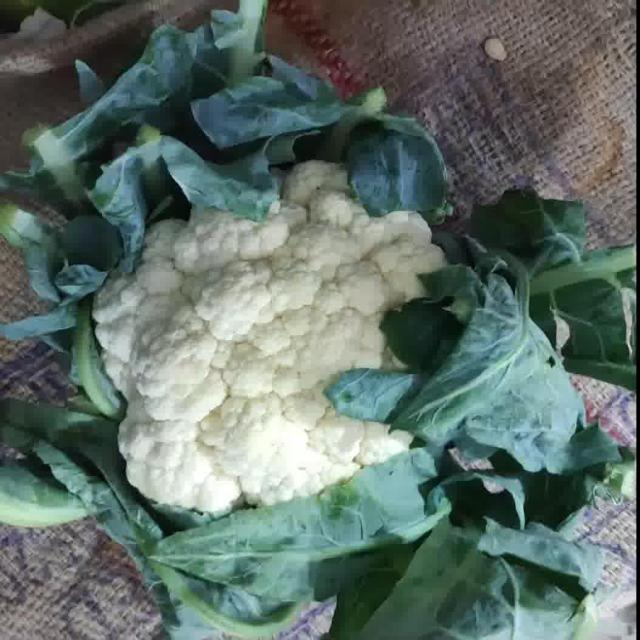Cauliflower: (86, 155, 456, 517)
